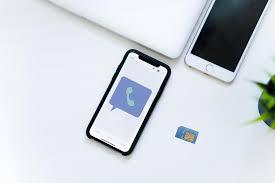Hand: (89, 49, 172, 154)
